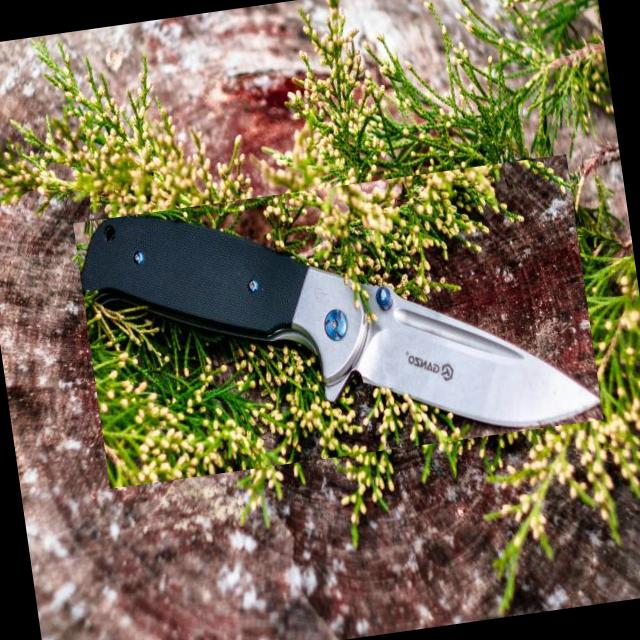Knife: (80, 216, 601, 432)
